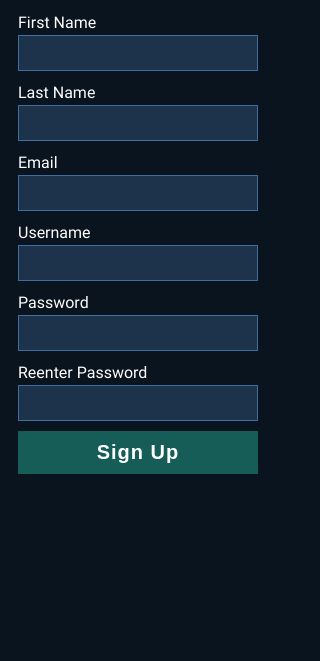
Scenario: SignUp Component › validates inputs and shows errors
The width and height of the screenshot is (320, 661).
Click the button "Sign Up": (138, 452) x1=18 y1=431 x2=258 y2=474
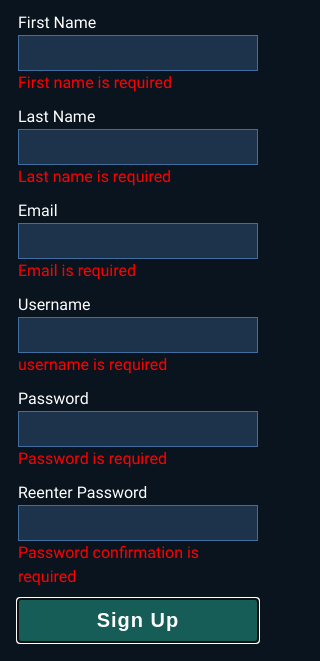
Now the text "First name is required" is shown, box x1=18 y1=73 x2=172 y2=92
Now the text "Email is required" is shown, box x1=18 y1=261 x2=136 y2=280
Now the text "Password is required" is shown, box x1=18 y1=449 x2=167 y2=468
